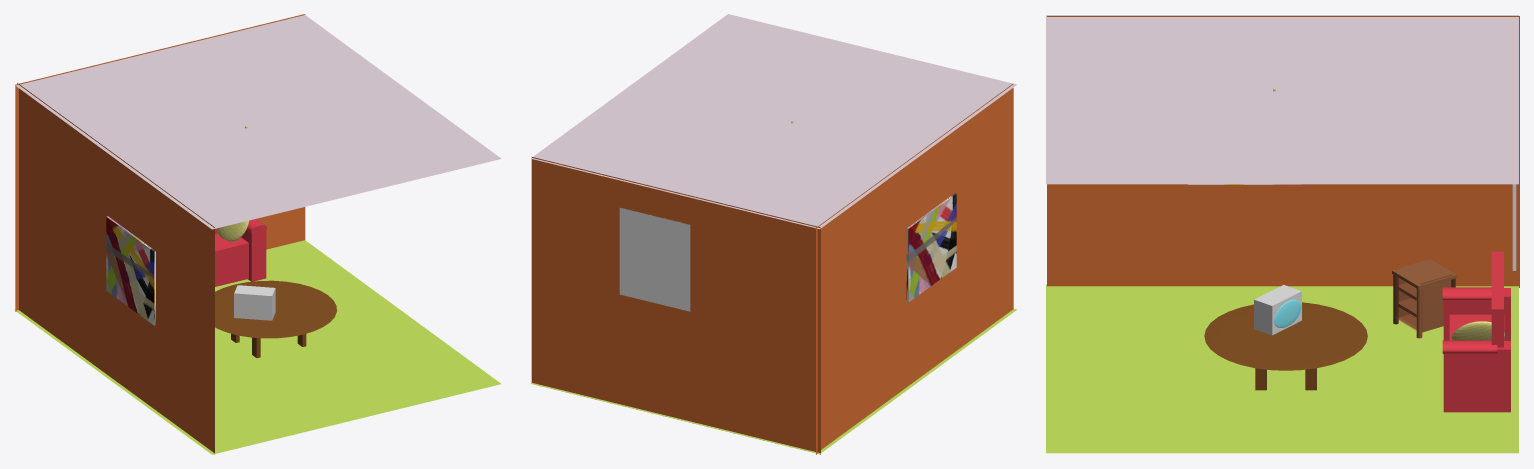
Rendered from room.glb.
3 renders of one model, left to right at view 1: azimuth 30°, elevation 25°; view 2: azimuth 150°, elevation 25°; view 3: azimuth 270°, elevation 25°, orthographic. The views are drawn at different scales.
Visible parts, largest first — view 1: Plane.003, Plane, Plane.001, Sphere.001, Cube.015, Plane.002, Cube, Cube.013, Cube.002; view 2: Plane.002, Plane.003, Plane, Cube.014, Cube.015, Plane.001; view 3: Plane.003, Plane.001, Plane, Sphere.001, Cube.002, Cube.007, Cube.013, Cube.001, Cube.003, Cylinder.001, Cube.012, Sphere (+3 smaller).
Part boxes in pixels (x1,y1,x2,y2): Plane.003: (14,14,501,229); Plane: (17,83,214,454); Plane.001: (14,240,501,454); Sphere.001: (215,280,336,338); Cube.015: (106,216,155,325); Plane.002: (15,14,305,311); Cube: (215,233,248,286); Cube.013: (234,285,275,320); Cube.002: (241,229,266,281); Plane.002: (531,157,820,454); Plane.003: (531,14,1016,229); Plane: (816,83,1013,454); Cube.014: (619,208,690,311); Cube.015: (906,193,956,302); Plane.001: (531,309,1017,453); Plane.003: (1046,15,1518,184); Plane.001: (1046,284,1518,453); Plane: (1047,16,1519,287); Sphere.001: (1204,302,1367,370); Cube.002: (1443,341,1510,412); Cube.007: (1396,259,1452,332); Cube.013: (1254,285,1301,335); Cube.001: (1443,288,1510,340); Cube.003: (1491,251,1503,347); Cylinder.001: (1442,340,1497,353); Cube.012: (1394,276,1416,330); Sphere: (1451,321,1504,340).
Bounding box in the file's own units: 14.67 × 11.03 × 17.38.
16 materials, 2 textured.
